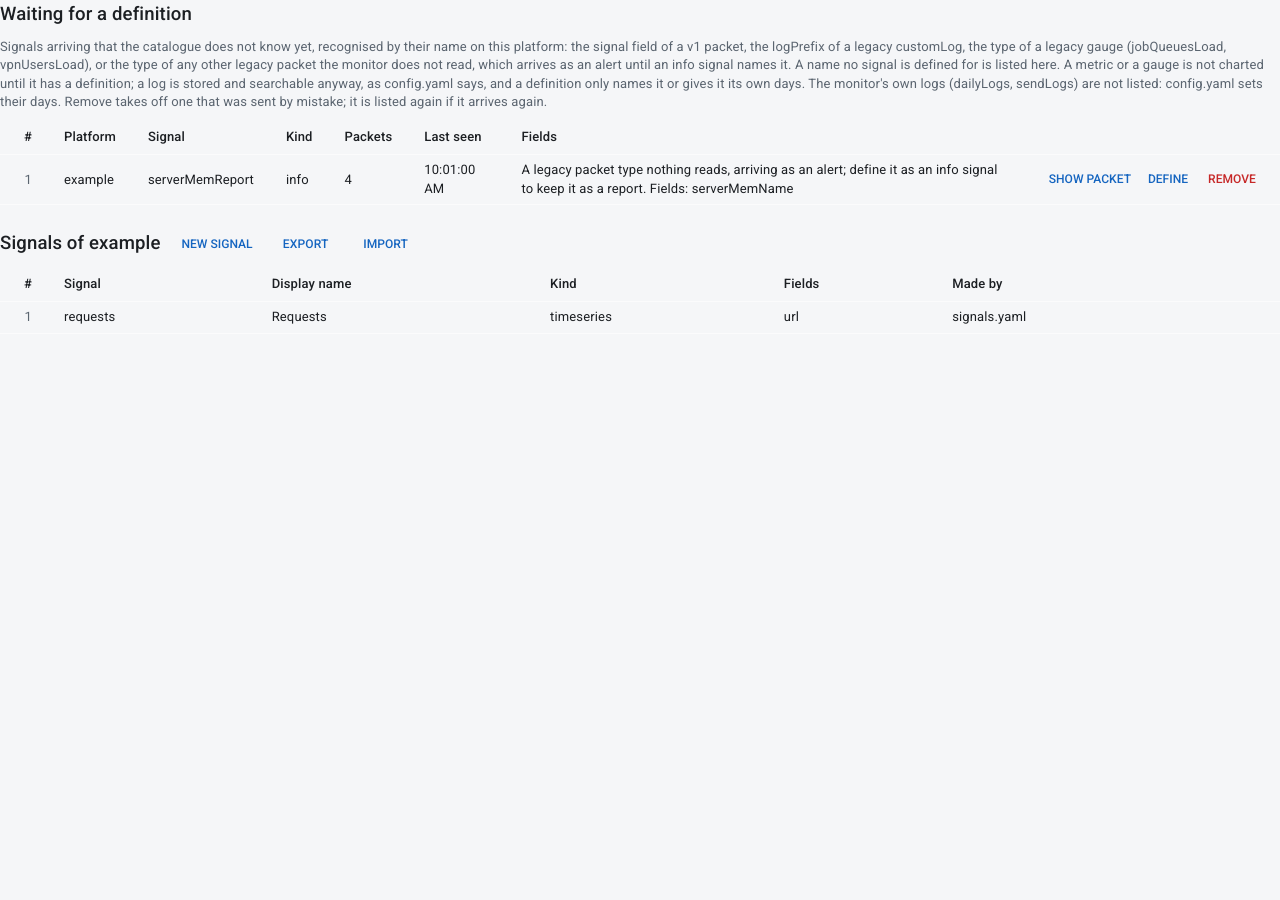
SignalsPage › shows the last packet a waiting signal arrived with
Click the button "Show packet": (1090, 180) x1=1044 y1=165 x2=1136 y2=194
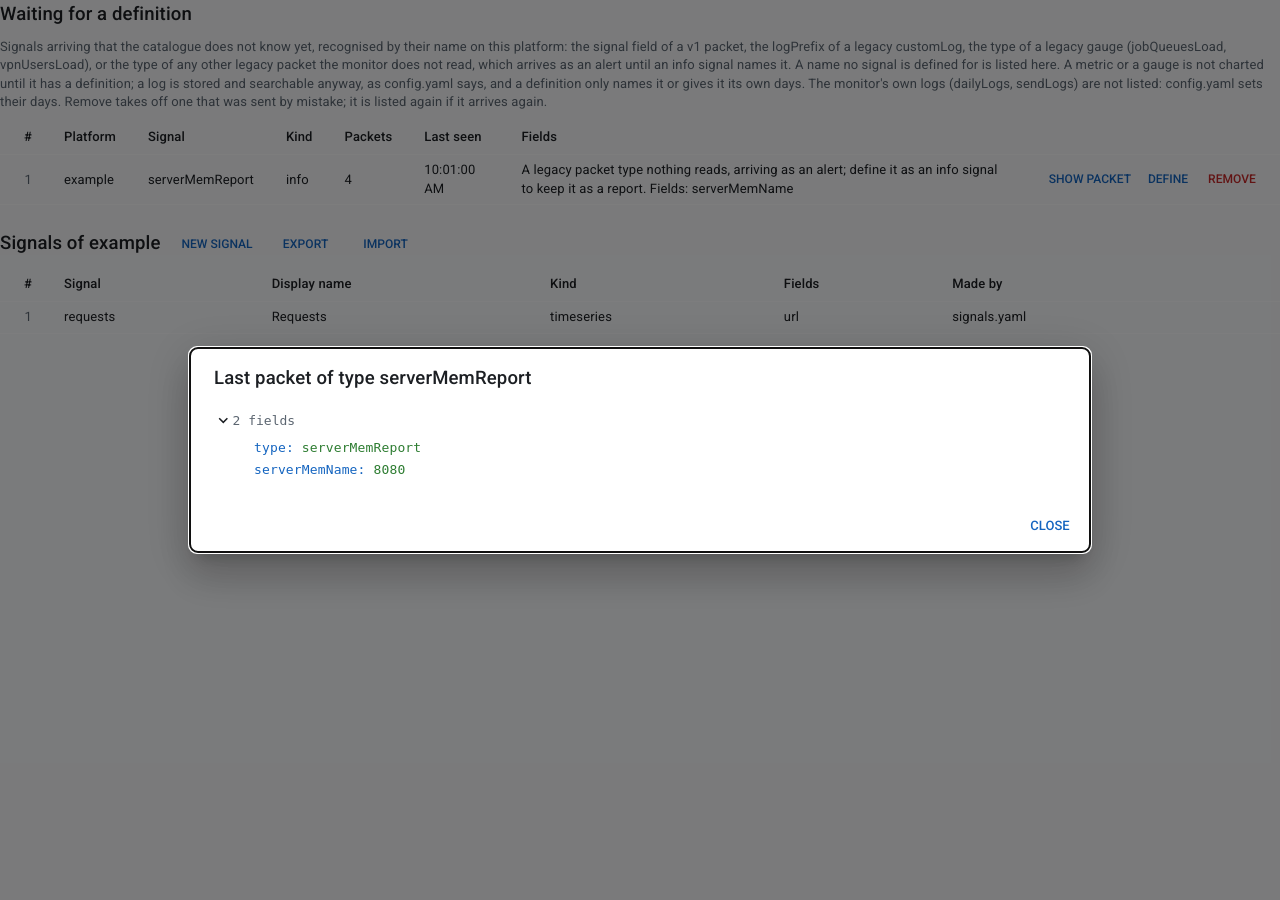
Expected: the heading "Last packet of type serverMemReport" is shown, x1=214 y1=367 x2=532 y2=389
Expected: the text "8080" is shown, x1=374 y1=462 x2=405 y2=477
